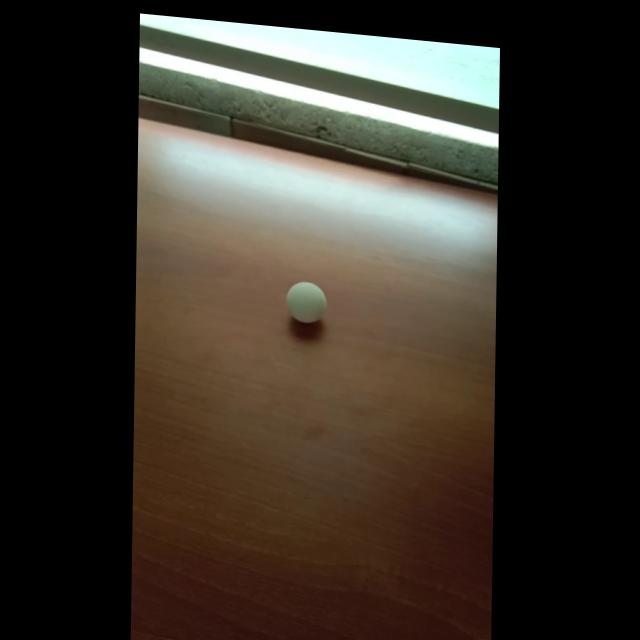white ball: (285, 279, 327, 325)
